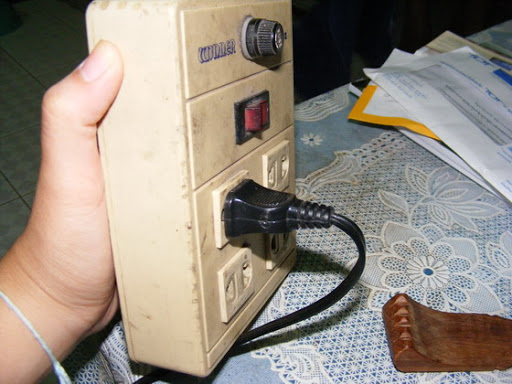Three_eye_plug: (75, 1, 322, 384)
